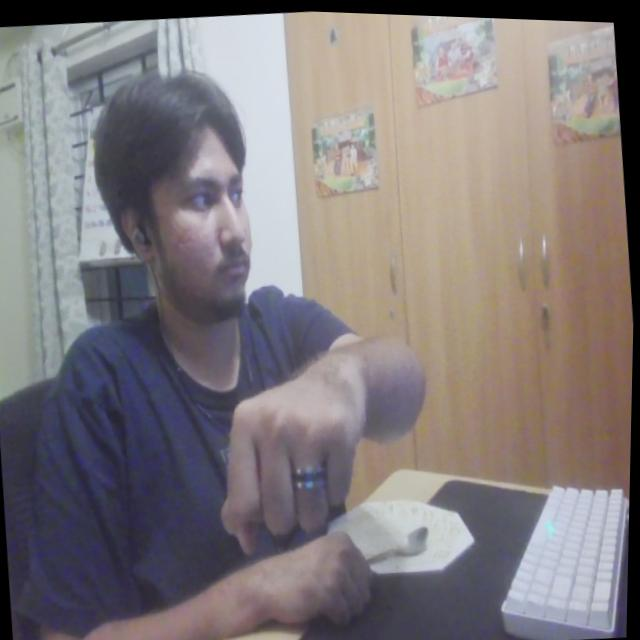yes: (203, 361, 391, 566)
